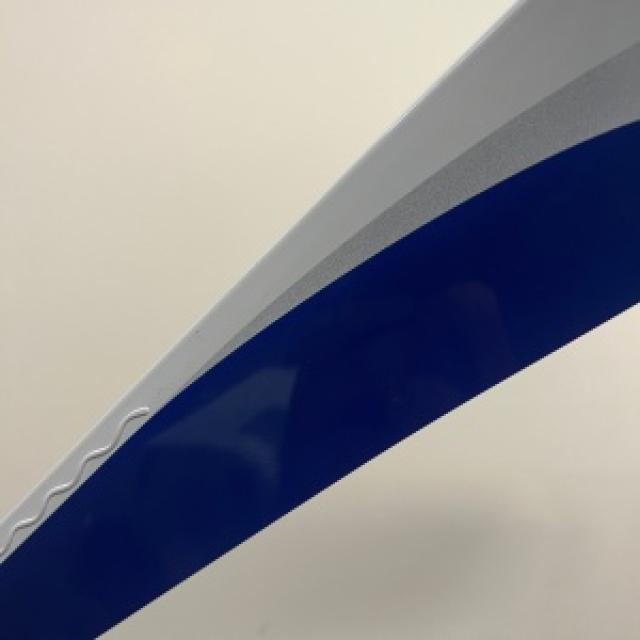healthy: (100, 305, 638, 638)
